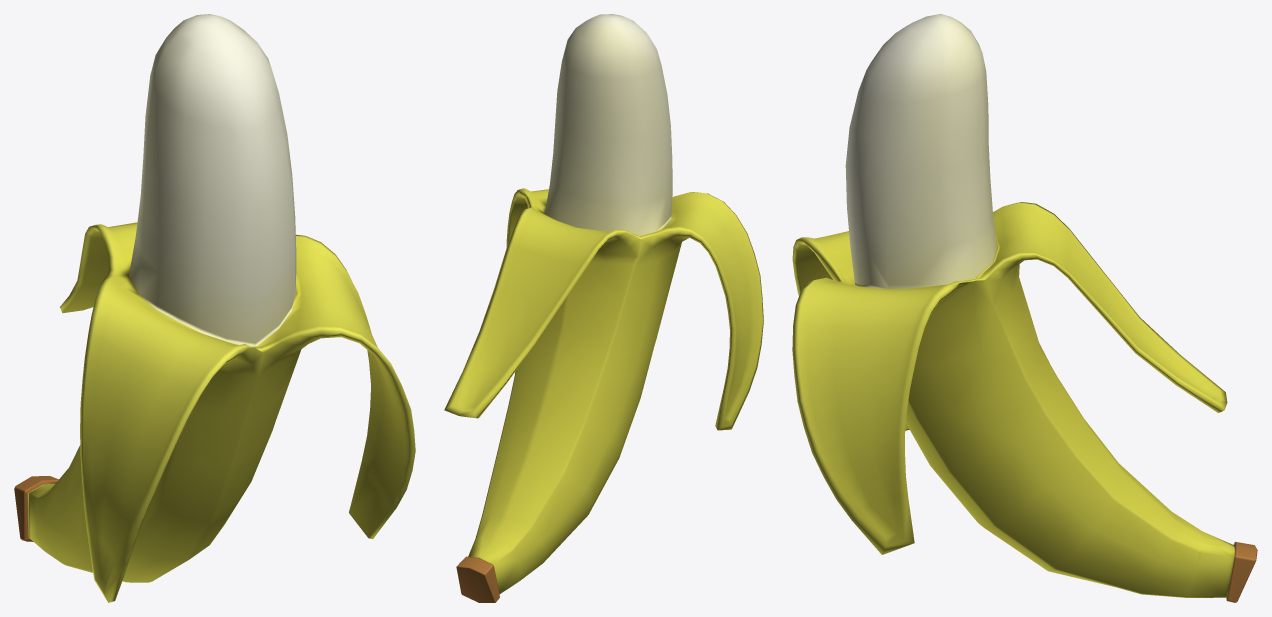
Rendered from banana.fbx.
The picture shows the model from 3 angles, left to right: view 1: azimuth 30°, elevation 25°; view 2: azimuth 150°, elevation 25°; view 3: azimuth 270°, elevation 25°; orthographic projection. The views are drawn at different scales.
Visible parts, largest first — view 1: banana_geo; view 2: banana_geo; view 3: banana_geo.
Boxes of the visible parts, x1,y1,x2,y2 form: banana_geo: (14,14,415,602); banana_geo: (444,14,763,602); banana_geo: (792,14,1257,602).
Bounding box in the file's own units: 2.7 × 5.61 × 4.08.
1 material, 1 textured.
